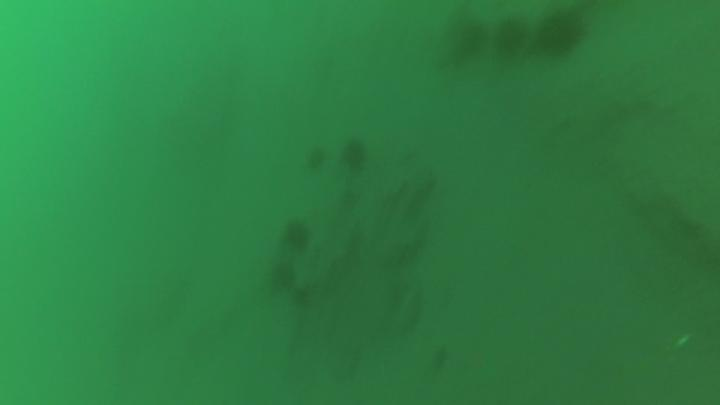echinus: (541, 10, 591, 61), (338, 137, 378, 177), (496, 16, 530, 58), (280, 213, 315, 249), (458, 18, 486, 55), (271, 259, 299, 293), (308, 142, 331, 172)
